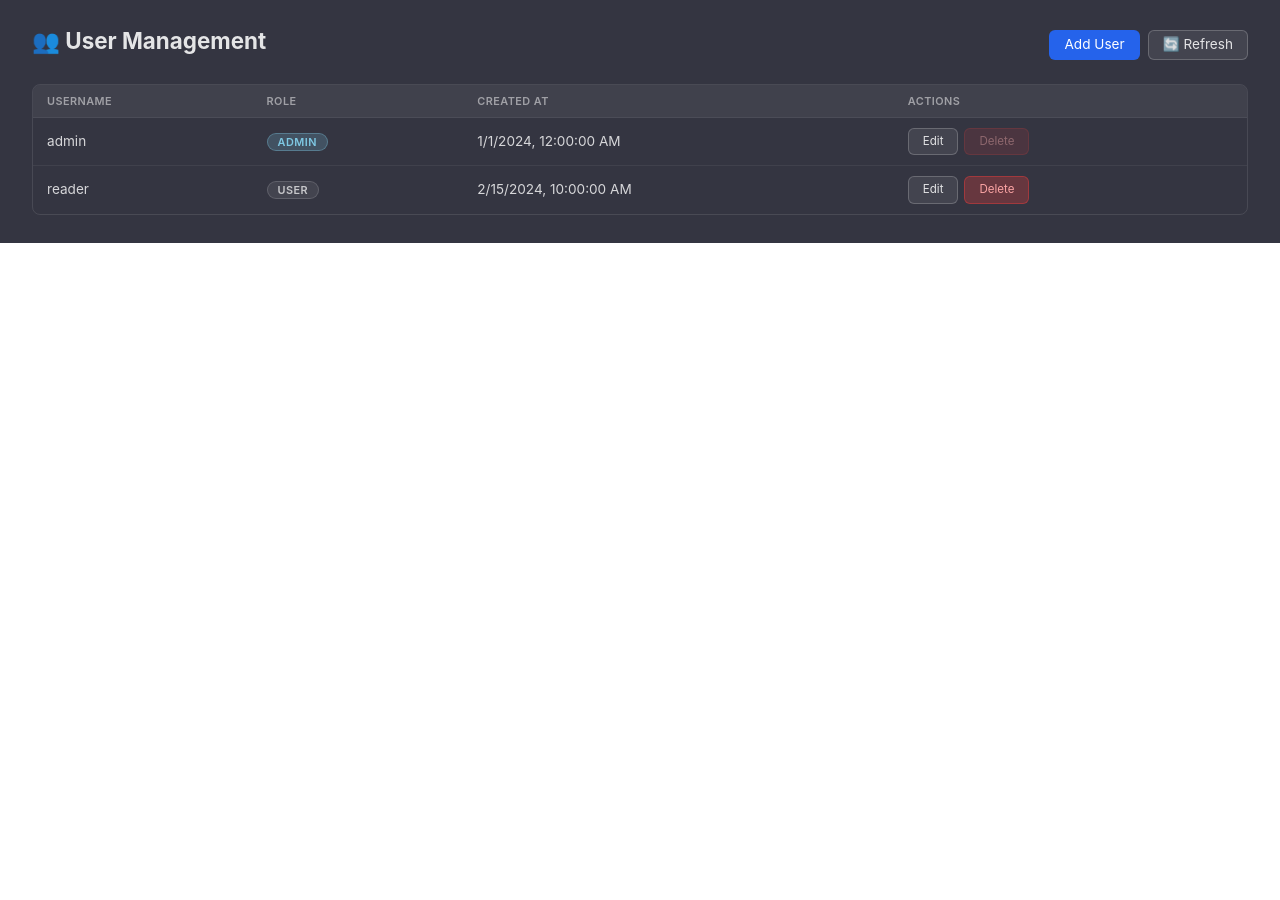
Test case: UserManagementPage › opens the delete confirmation modal
Expected: the text "reader" is shown, top-left (33, 166), bottom-right (253, 214)
Click the button "Delete" in the row of "reader". click: (997, 190)
box: top-left (964, 176), bottom-right (1030, 204)
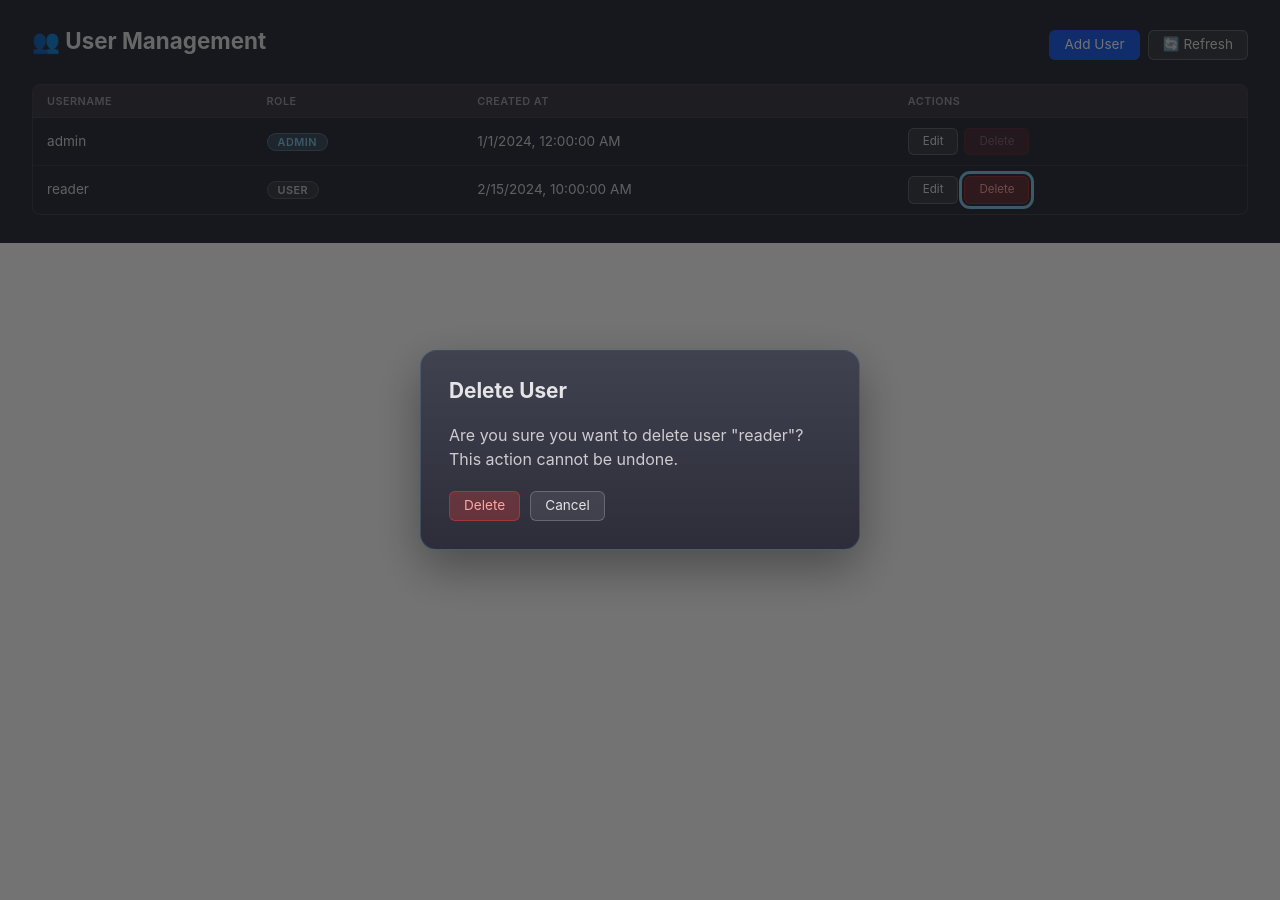
Expected: the dialog is shown, top-left (420, 350), bottom-right (860, 550)
Expected: the text "Are you sure" is shown, top-left (449, 425), bottom-right (804, 469)
